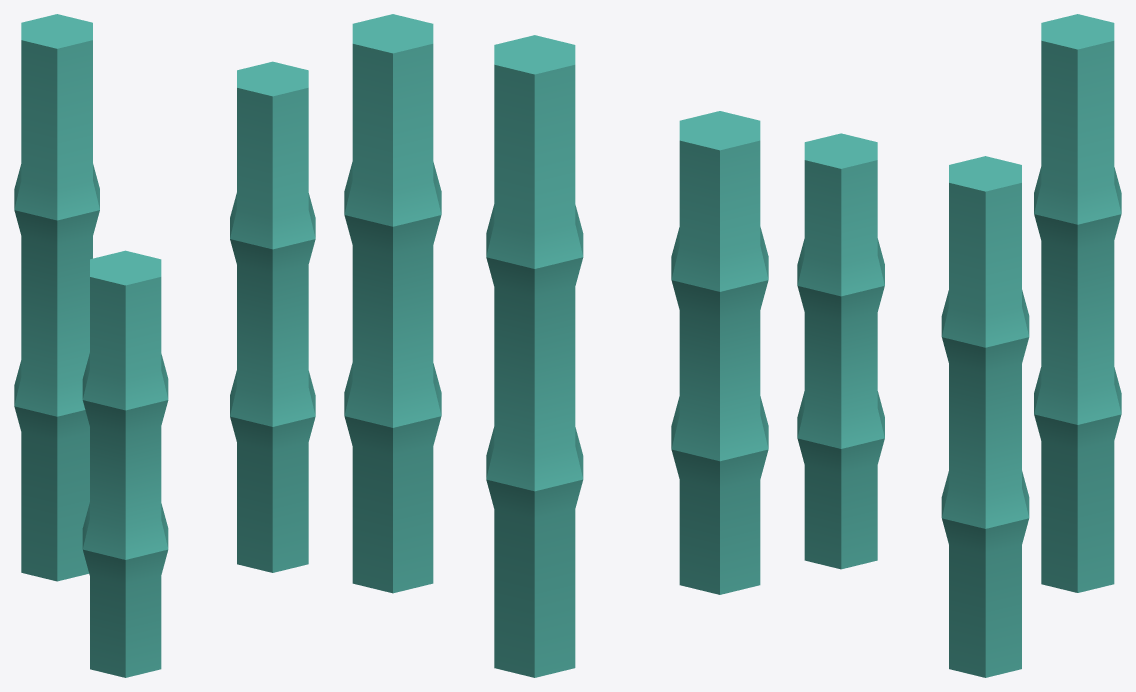
File: bamboo.fbx
3 views of the same model, side by side, from view 1: azimuth 30°, elevation 25°; view 2: azimuth 150°, elevation 25°; view 3: azimuth 270°, elevation 25° (orthographic). The views are drawn at different scales.
Parts seen in each view (by area): view 1: bamboo; view 2: bamboo; view 3: bamboo.
Boxes of the visible parts, bbox=[...] form: bamboo: bbox=[14, 14, 315, 677]; bamboo: bbox=[344, 14, 768, 677]; bamboo: bbox=[797, 14, 1121, 677].
Bounding box in the file's own units: 3.4 × 5.7 × 3.08.
